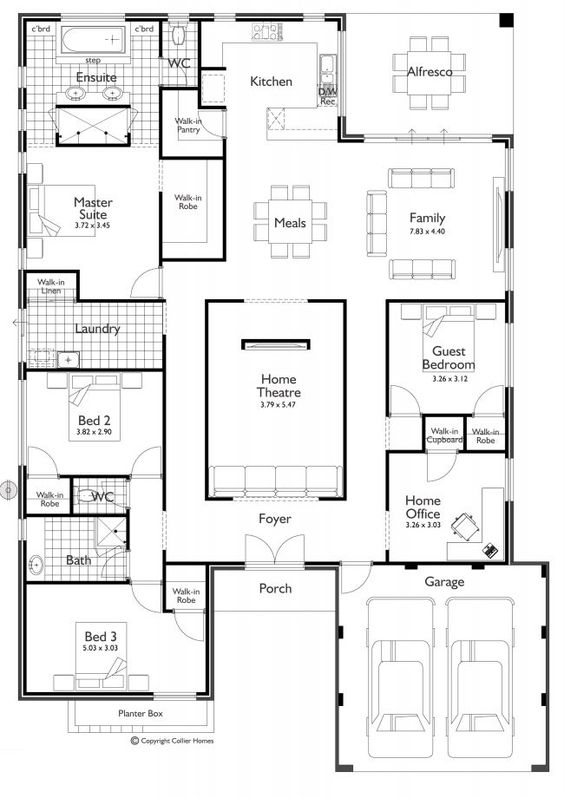door: (239, 532, 312, 560), (123, 265, 162, 299), (422, 454, 460, 484), (466, 384, 504, 414), (389, 384, 427, 414), (167, 613, 205, 642), (126, 585, 164, 614), (124, 444, 162, 473), (339, 567, 375, 593)
window: (337, 30, 346, 118), (17, 378, 26, 464), (60, 11, 124, 22), (17, 308, 28, 360), (505, 321, 513, 387), (505, 456, 514, 501), (153, 692, 196, 700), (16, 151, 28, 174), (17, 516, 27, 539)
